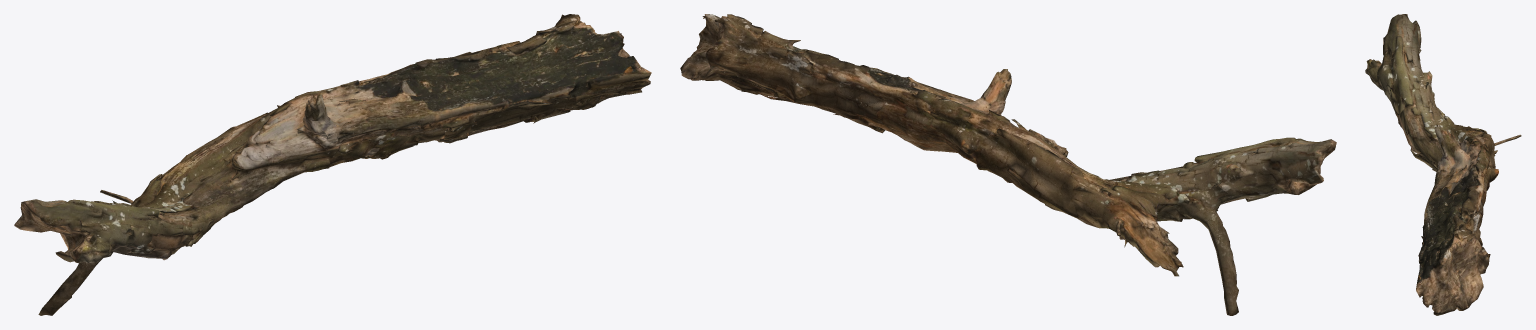
The model's file is log.glb.
3 renders of one model, left to right at view 1: azimuth 30°, elevation 25°; view 2: azimuth 150°, elevation 25°; view 3: azimuth 270°, elevation 25°, orthographic. The views are drawn at different scales.
Visible parts, largest first — view 1: dead_tree_trunk_02; view 2: dead_tree_trunk_02; view 3: dead_tree_trunk_02.
Boxes of the visible parts, x1=… form: dead_tree_trunk_02: x1=14, y1=14, x2=651, y2=315; dead_tree_trunk_02: x1=680, y1=14, x2=1336, y2=315; dead_tree_trunk_02: x1=1365, y1=14, x2=1521, y2=315.
Size of the model in its own units: 4.05 by 1.05 by 1.05.
Materials: 1 (1 with a texture image).
